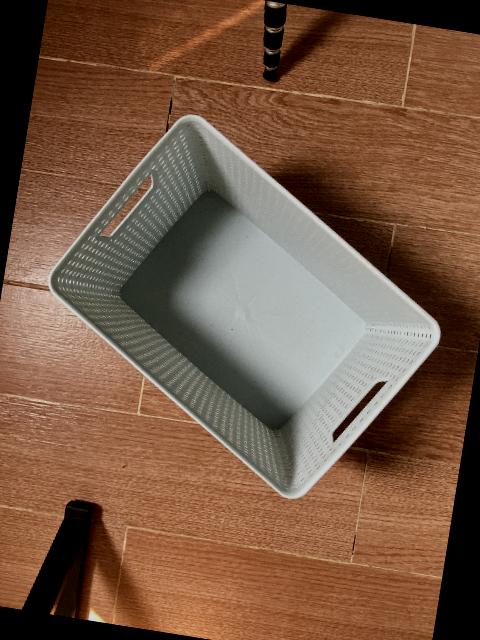cart: (48, 115, 441, 501)
